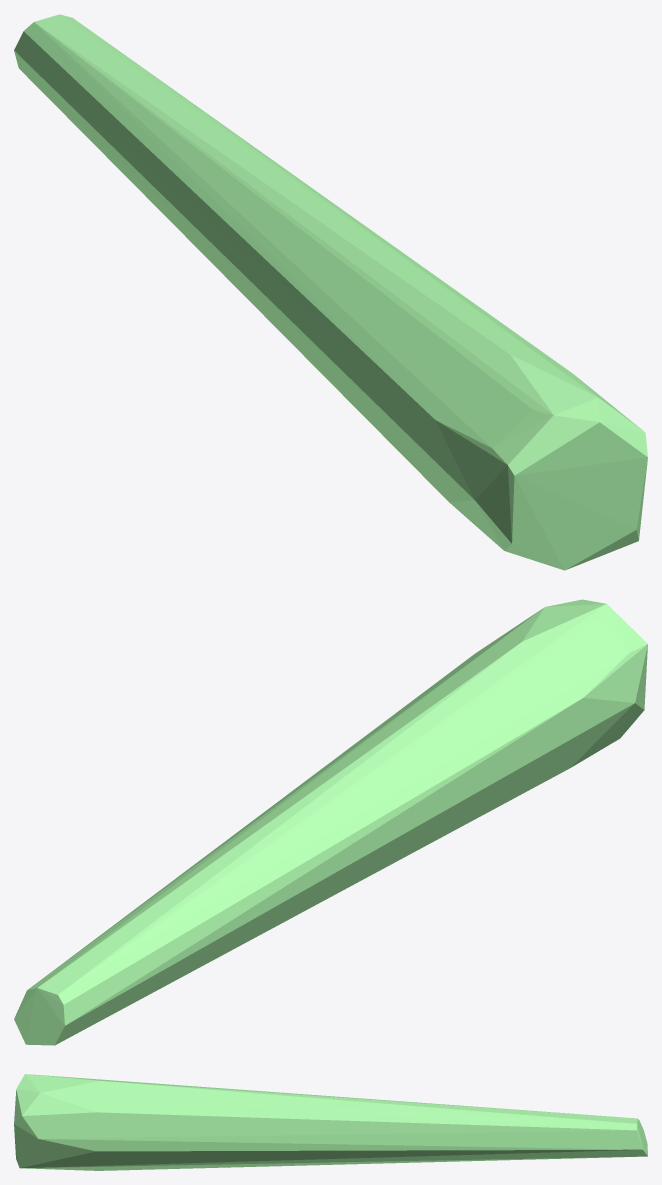
File: dvkr_robot_L2_respondable_PSM2_coll_19.dae
3 renders of one model, top to bottom at view 1: azimuth 30°, elevation 25°; view 2: azimuth 150°, elevation 25°; view 3: azimuth 270°, elevation 25°, orthographic. The views are drawn at different scales.
Visible parts, largest first — view 1: Node_0000023514CD64F0; view 2: Node_0000023514CD64F0; view 3: Node_0000023514CD64F0.
Boxes of the visible parts, box(x1,y1,x2,y2) form: Node_0000023514CD64F0: box(14, 14, 647, 570); Node_0000023514CD64F0: box(14, 599, 647, 1045); Node_0000023514CD64F0: box(14, 1074, 647, 1170).
Size of the model in its own units: 0.0254 by 0.0234 by 0.1565.
